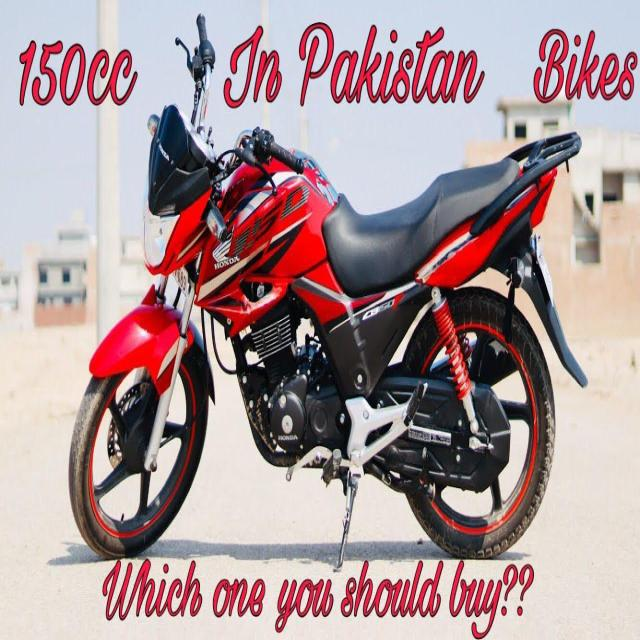motorcycle: (29, 7, 593, 597)
